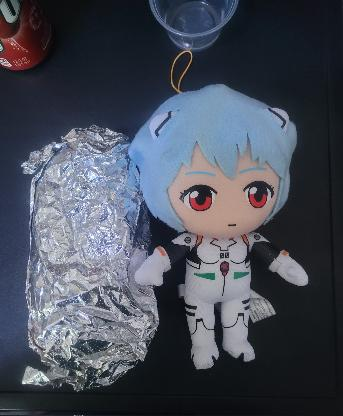rei-plush: (121, 72, 324, 372)
